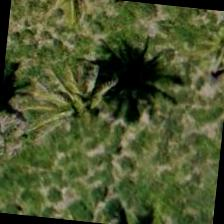Kelapa_Sawit: (34, 52, 132, 152)
